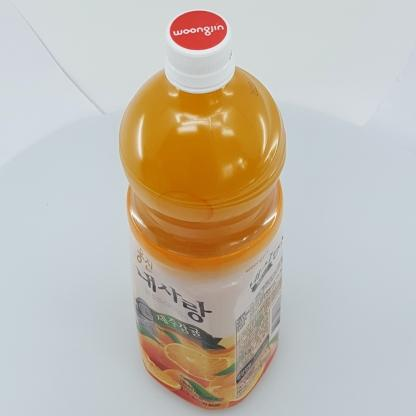----------1-5L: (118, 9, 287, 410)
